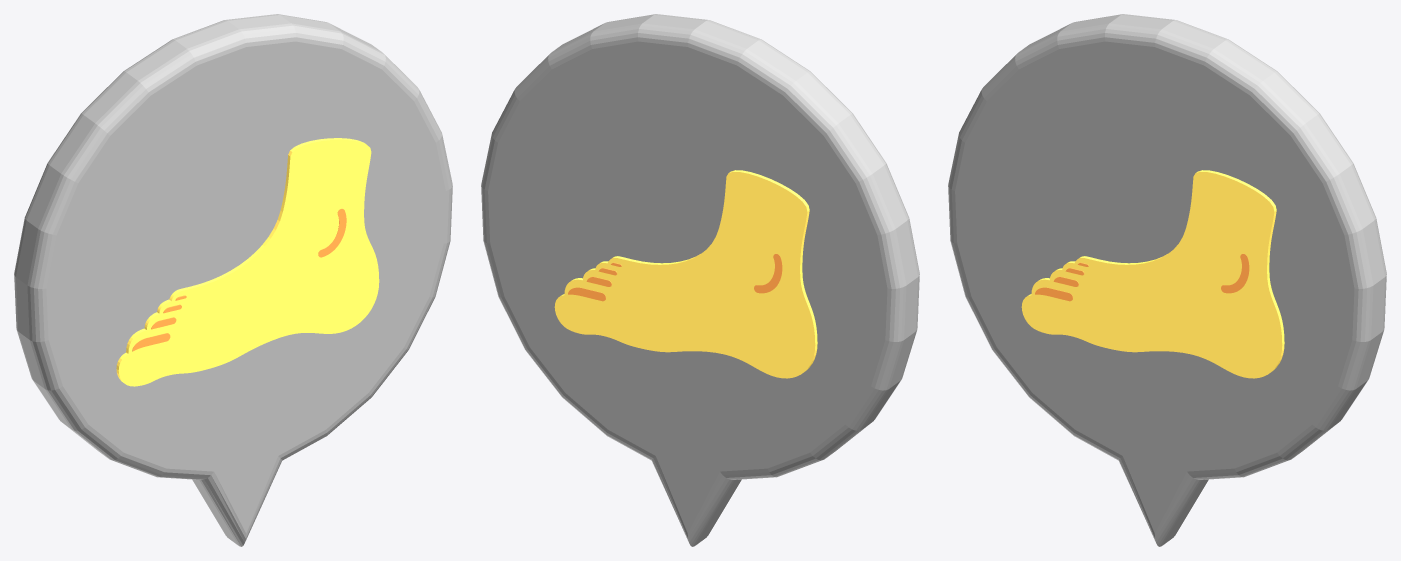
The model's file is foot.glb.
3 renders of one model, left to right at view 1: azimuth 30°, elevation 25°; view 2: azimuth 150°, elevation 25°; view 3: azimuth 330°, elevation 25°, orthographic.
Parts seen in each view (by area): view 1: EmotionBubble; view 2: EmotionBubble; view 3: EmotionBubble.
Part boxes in pixels (left/top/right/bottom): EmotionBubble: left=14, top=14, right=452, bottom=546; EmotionBubble: left=481, top=14, right=919, bottom=546; EmotionBubble: left=948, top=14, right=1386, bottom=546.
Bounding box in the file's own units: 5.29 × 6.16 × 0.7.
